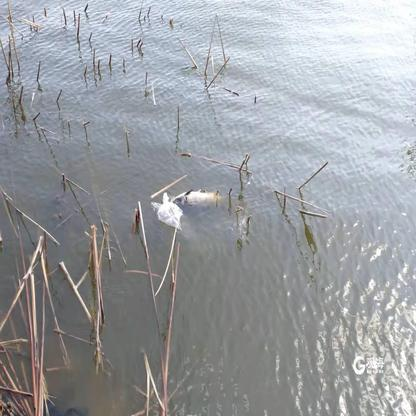deceased fish: (175, 186, 228, 208)
plastic bag: (148, 193, 183, 231)
